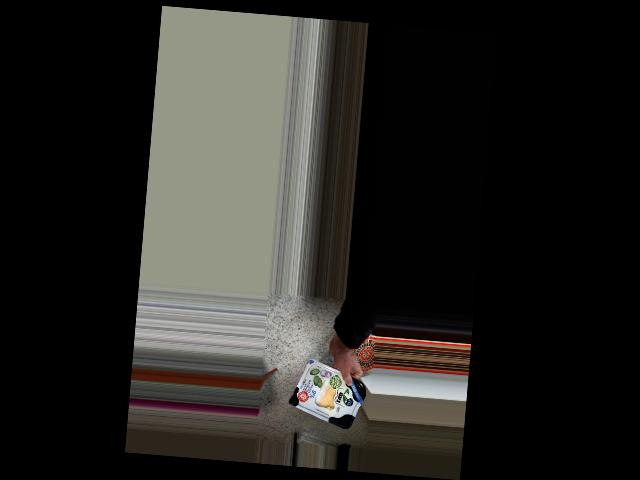cheese: (295, 364, 359, 417)
